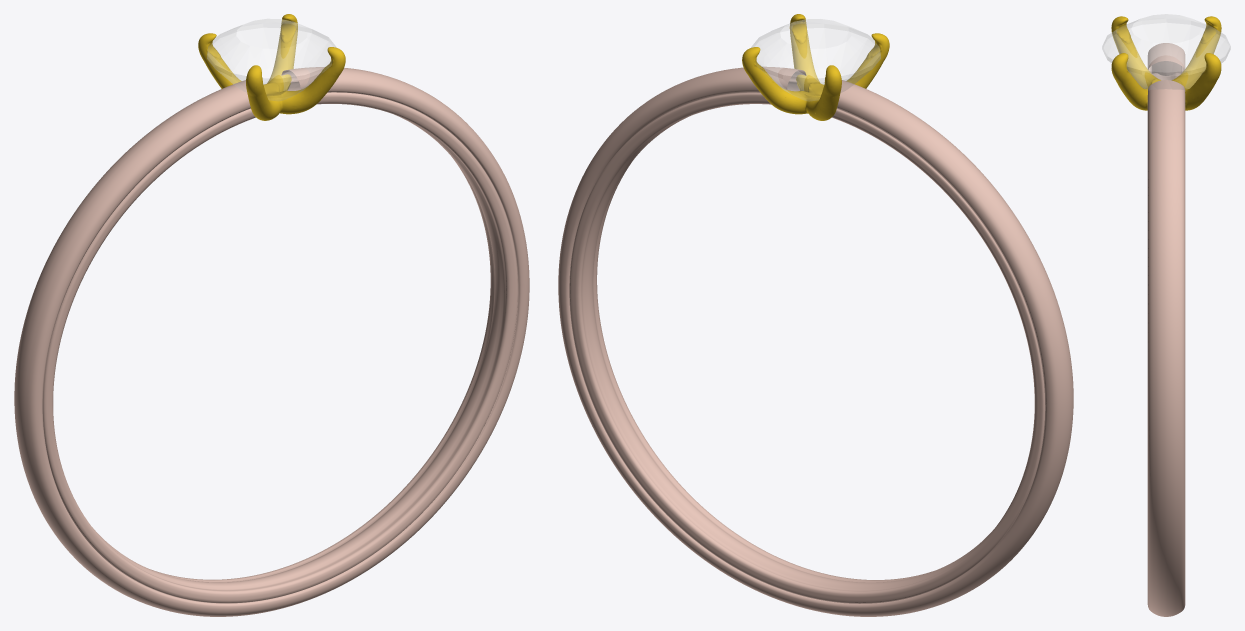
File: solitaire-sky.glb
3 views of the same model, side by side, from view 1: azimuth 30°, elevation 25°; view 2: azimuth 150°, elevation 25°; view 3: azimuth 270°, elevation 25° (orthographic). The views are drawn at different scales.
Visible parts, largest first — view 1: shank, gem_mesh_1, setting_mesh_2; view 2: shank, gem_mesh_1, setting_mesh_2; view 3: shank, gem_mesh_1, setting_mesh_2.
Boxes of the visible parts, x1=… form: shank: x1=14, y1=67, x2=529, y2=616; gem_mesh_1: x1=207, y1=19, x2=336, y2=100; setting_mesh_2: x1=198, y1=14, x2=345, y2=120; shank: x1=558, y1=66, x2=1073, y2=616; gem_mesh_1: x1=751, y1=19, x2=880, y2=101; setting_mesh_2: x1=742, y1=14, x2=889, y2=120; shank: x1=1147, y1=43, x2=1185, y2=616; gem_mesh_1: x1=1102, y1=14, x2=1230, y2=89; setting_mesh_2: x1=1111, y1=16, x2=1221, y2=110.
Bounding box in the file's own units: 2 × 2.16 × 0.4463.
